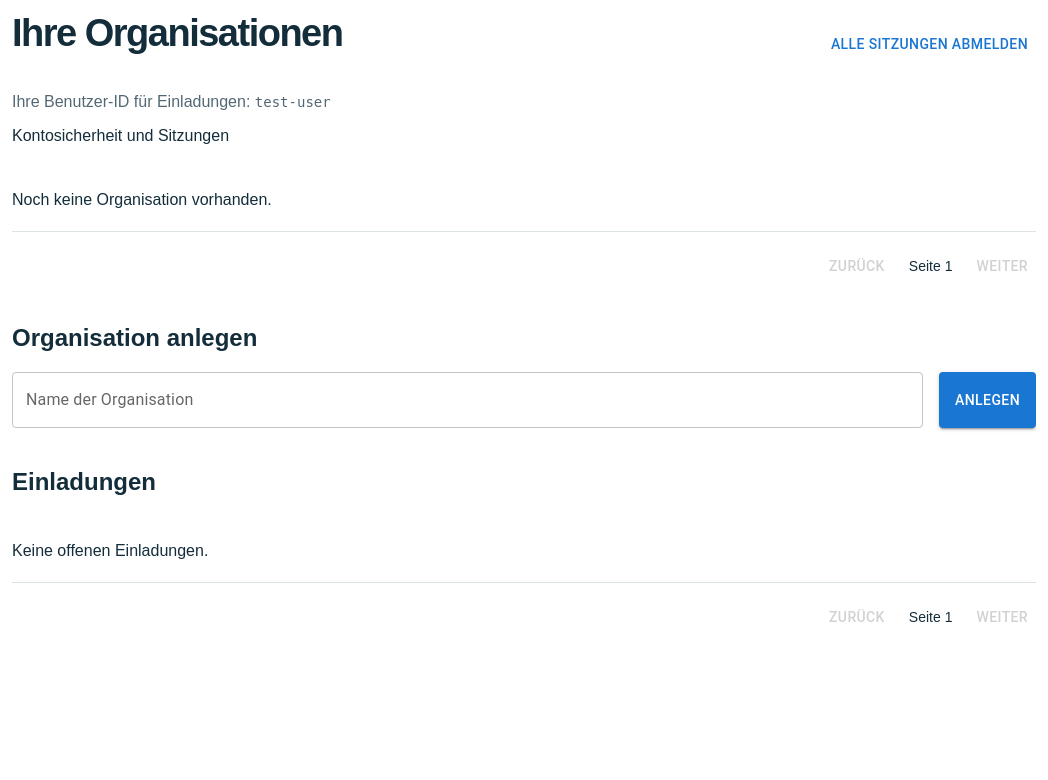
Test: empty organizations and invitations are shown without fake data
Expected: the list item "Noch keine Organisation vorhanden." is shown, 12,168 -> 1036,232
Expected: the list item "Keine offenen Einladungen." is shown, 12,520 -> 1036,583
Step 1. Click the button "Anlegen" → click(988, 400), box 939,372 -> 1036,428
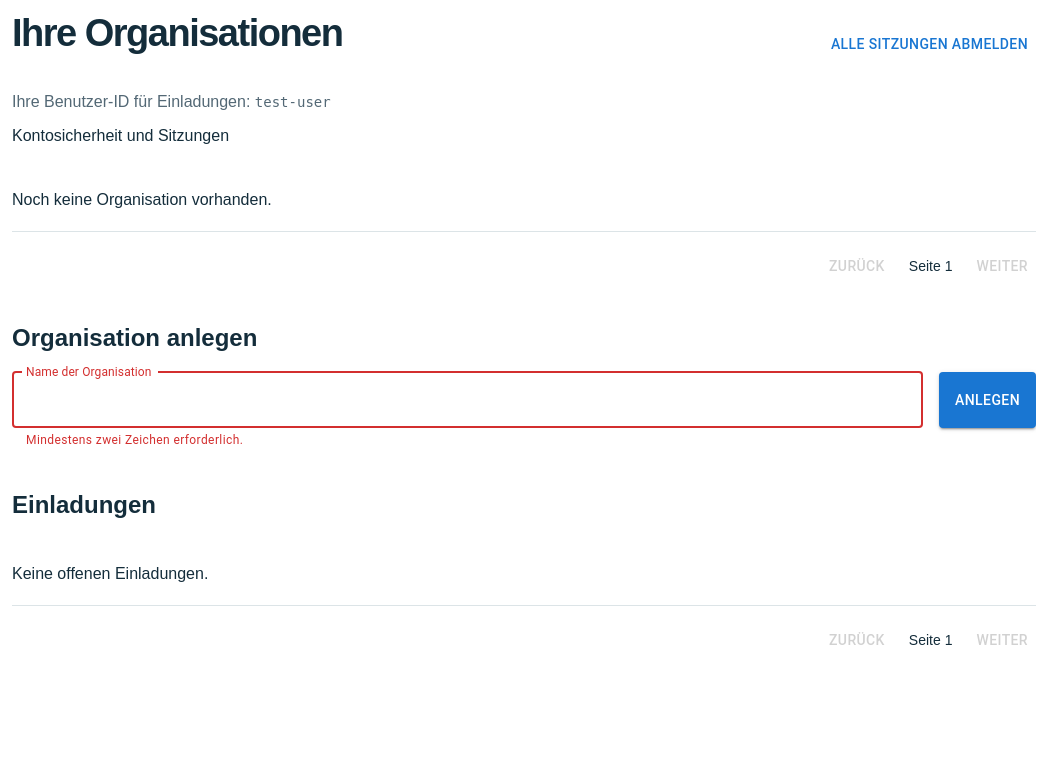
Expected: the text "Mindestens zwei Zeichen erforderlich." is shown, 26,433 -> 243,447
